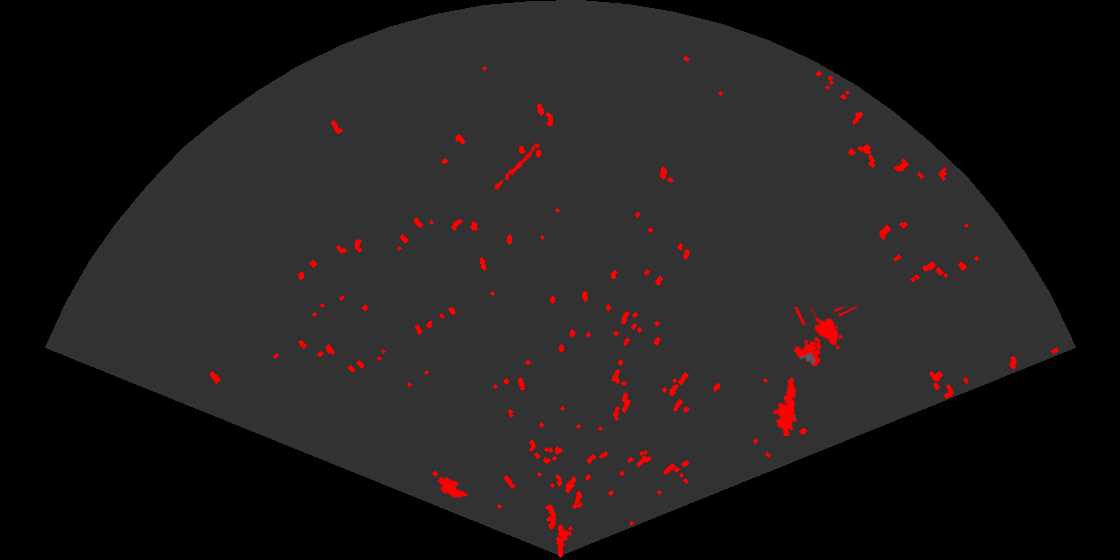AUV: (436, 475, 469, 500)
cage: (792, 307, 860, 368)
chain: (490, 144, 537, 196)
frogman: (771, 375, 799, 436)
